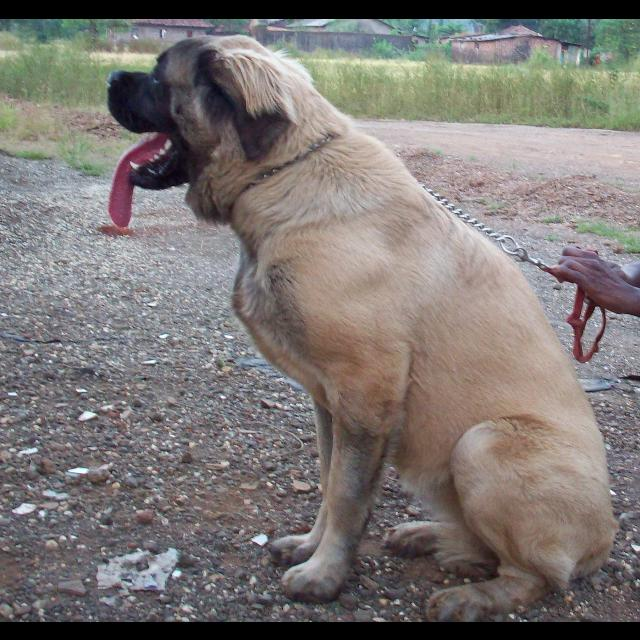mastiff: (105, 33, 621, 621)
